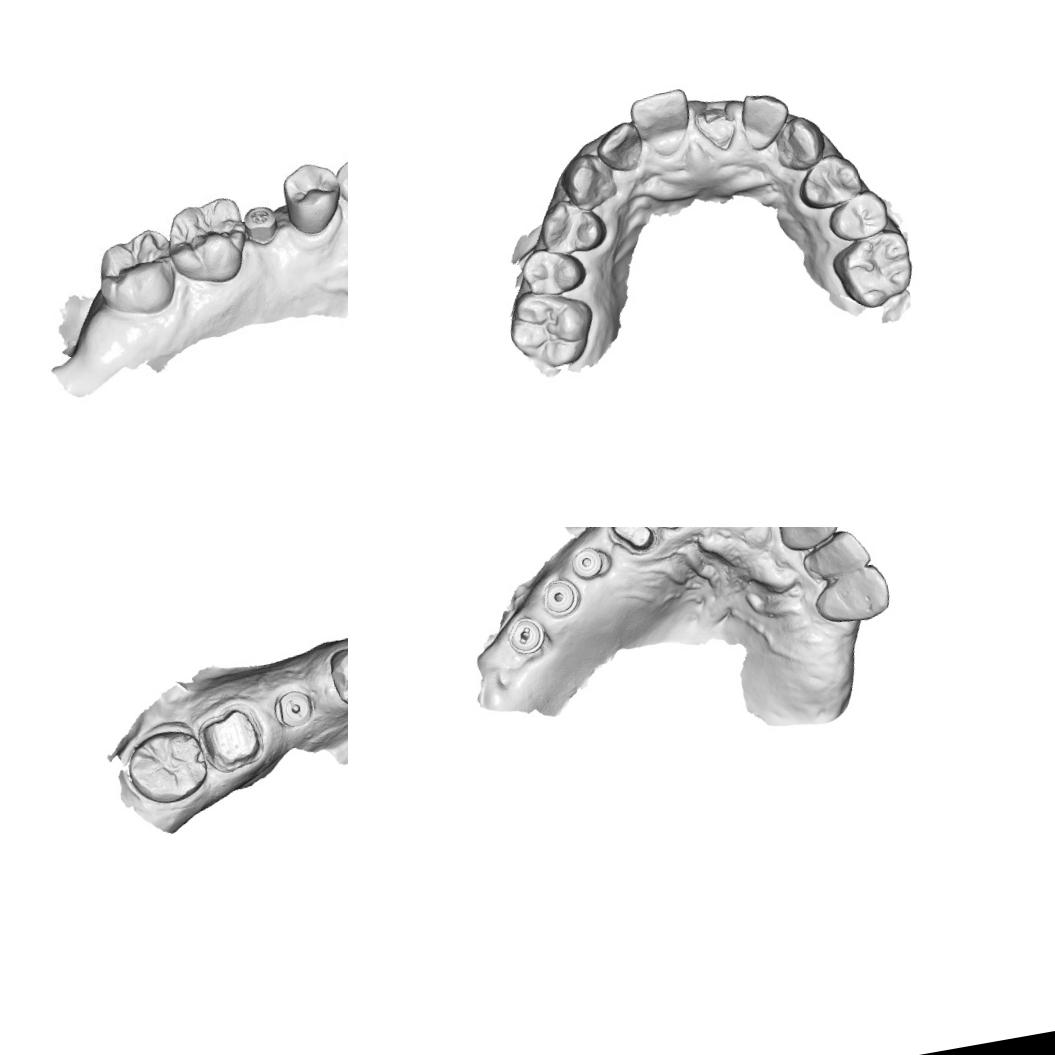canine: (809, 560, 893, 628), (556, 148, 620, 214), (770, 112, 829, 174), (328, 143, 348, 224)
crown: (192, 702, 268, 780), (607, 527, 656, 555)
implant: (537, 574, 584, 620), (568, 542, 613, 582), (242, 200, 282, 244)
implant_minus: (502, 612, 549, 658), (270, 688, 316, 730)
incisor: (626, 84, 696, 162), (797, 527, 873, 582), (736, 87, 795, 153), (591, 118, 646, 175), (771, 527, 841, 553)
molar: (159, 191, 256, 291), (501, 280, 600, 374), (89, 224, 183, 320), (119, 722, 212, 812), (826, 225, 918, 314)
premolar: (273, 155, 348, 240), (534, 192, 609, 258), (792, 148, 866, 213), (516, 240, 589, 301), (824, 185, 892, 244), (324, 642, 348, 717)
